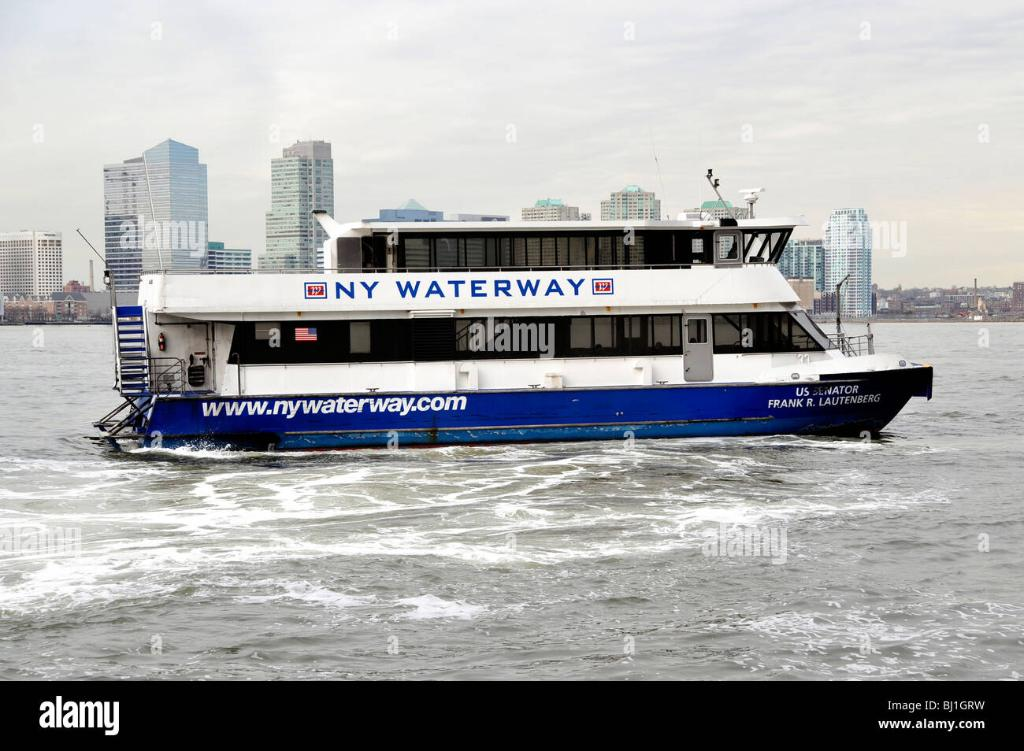PassengerShip: (86, 185, 940, 451)
